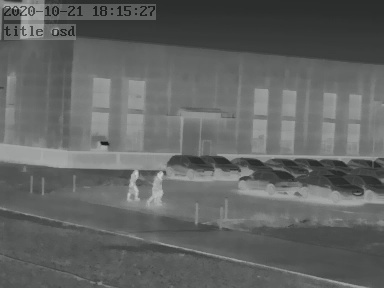person: (147, 170, 163, 205), (127, 168, 141, 200)
vehicle: (300, 171, 362, 200), (240, 169, 303, 193), (165, 152, 214, 179), (203, 153, 242, 177), (350, 172, 384, 199), (232, 155, 270, 172), (262, 156, 299, 171), (347, 156, 378, 170), (318, 156, 347, 169), (296, 156, 324, 169)
